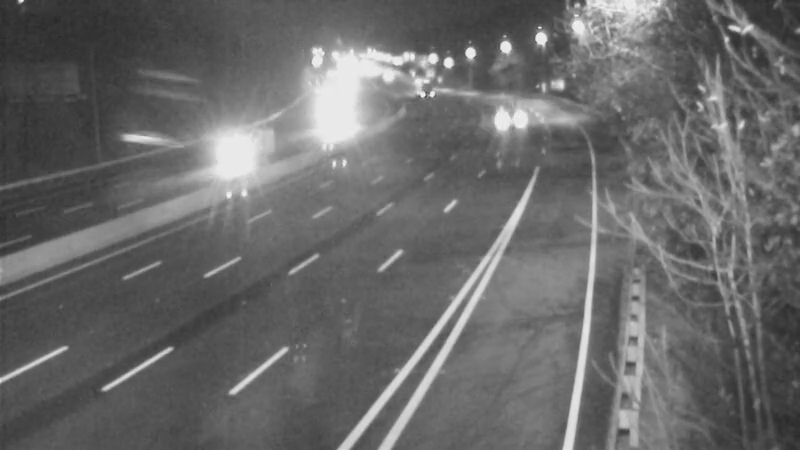vehicle: (402, 68, 452, 118), (479, 90, 529, 140), (199, 124, 249, 174), (300, 106, 350, 156)
